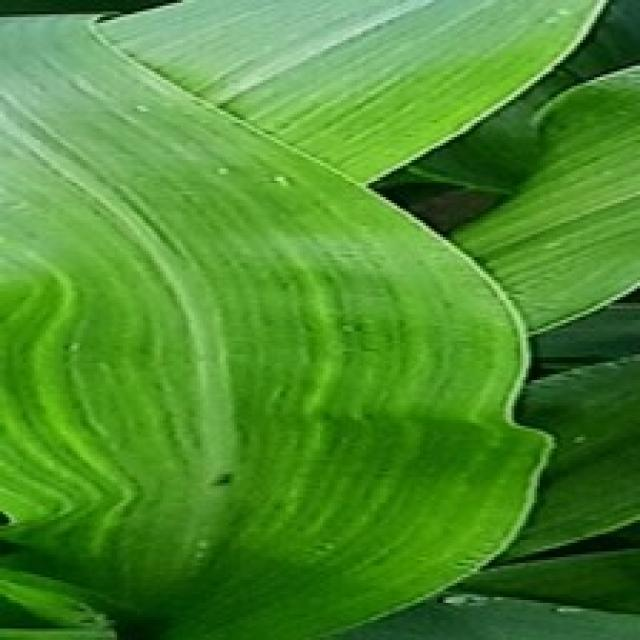Corn: (0, 0, 637, 637), (91, 0, 628, 186), (443, 46, 637, 337)
